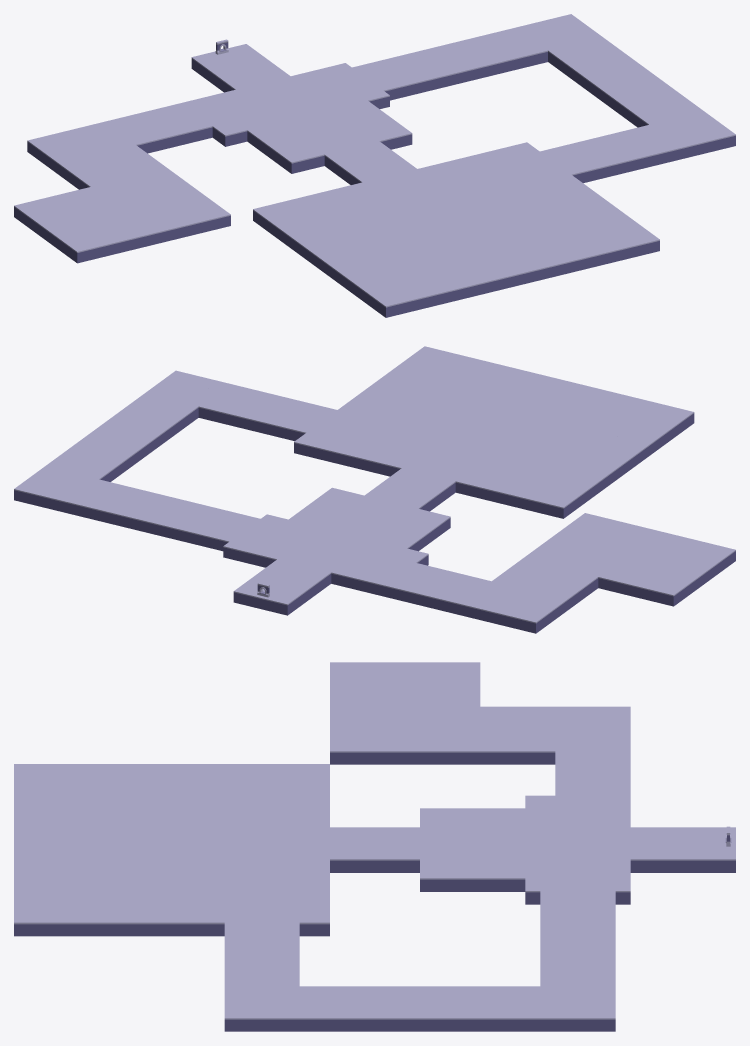
File: graybox_dungeon_00.obj
3 views of the same model, one above another, from view 1: azimuth 30°, elevation 25°; view 2: azimuth 150°, elevation 25°; view 3: azimuth 270°, elevation 25° (orthographic). The views are drawn at different scales.
Parts seen in each view (by area): view 1: mergedBlocks; view 2: mergedBlocks; view 3: mergedBlocks.
Boxes of the visible parts, x1=… form: mergedBlocks: x1=14, y1=14, x2=735, y2=317; mergedBlocks: x1=14, y1=346, x2=735, y2=633; mergedBlocks: x1=14, y1=662, x2=735, y2=1031.
Bounding box in the file's own units: 56 × 2 × 48.
